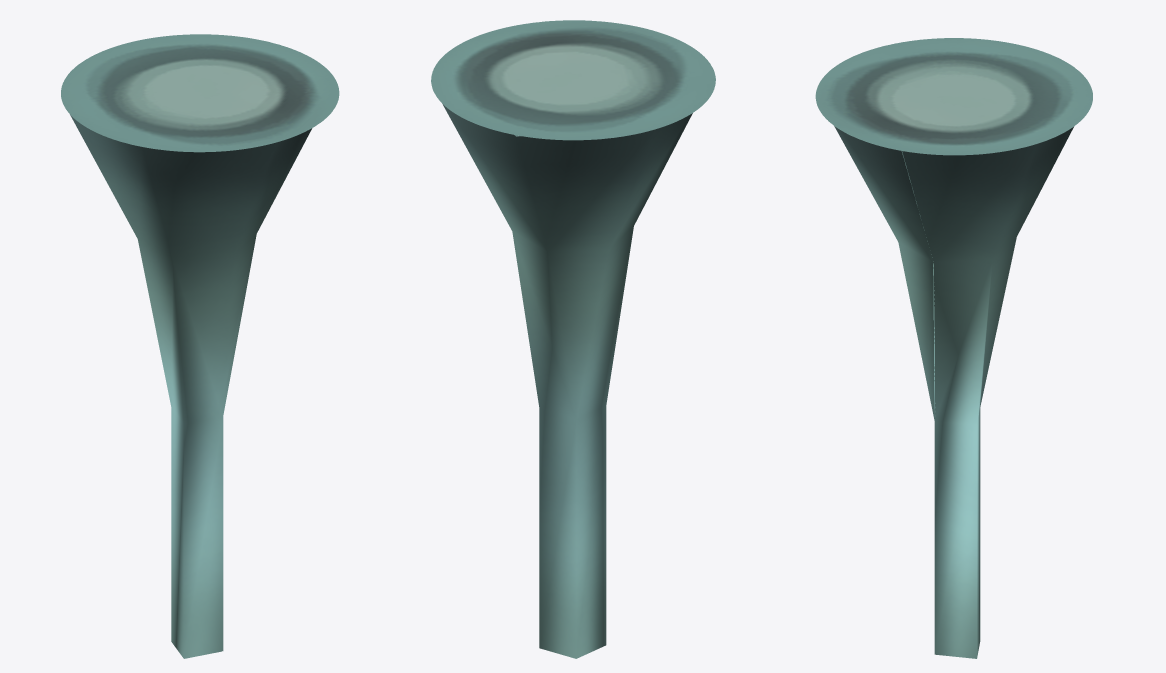
File: tubule_04.fbx
The picture shows the model from 3 angles, left to right: view 1: azimuth 30°, elevation 25°; view 2: azimuth 150°, elevation 25°; view 3: azimuth 270°, elevation 25°; orthographic projection. The views are drawn at different scales.
Visible parts, largest first — view 1: sav_tubule_04_LOD0; view 2: sav_tubule_04_LOD0; view 3: sav_tubule_04_LOD0.
Boxes of the visible parts, x1,y1,x2,y2 form: sav_tubule_04_LOD0: (61, 34, 339, 658); sav_tubule_04_LOD0: (431, 20, 715, 658); sav_tubule_04_LOD0: (815, 38, 1092, 658).
Size of the model in its own units: 22.6 by 35.05 by 22.58.
